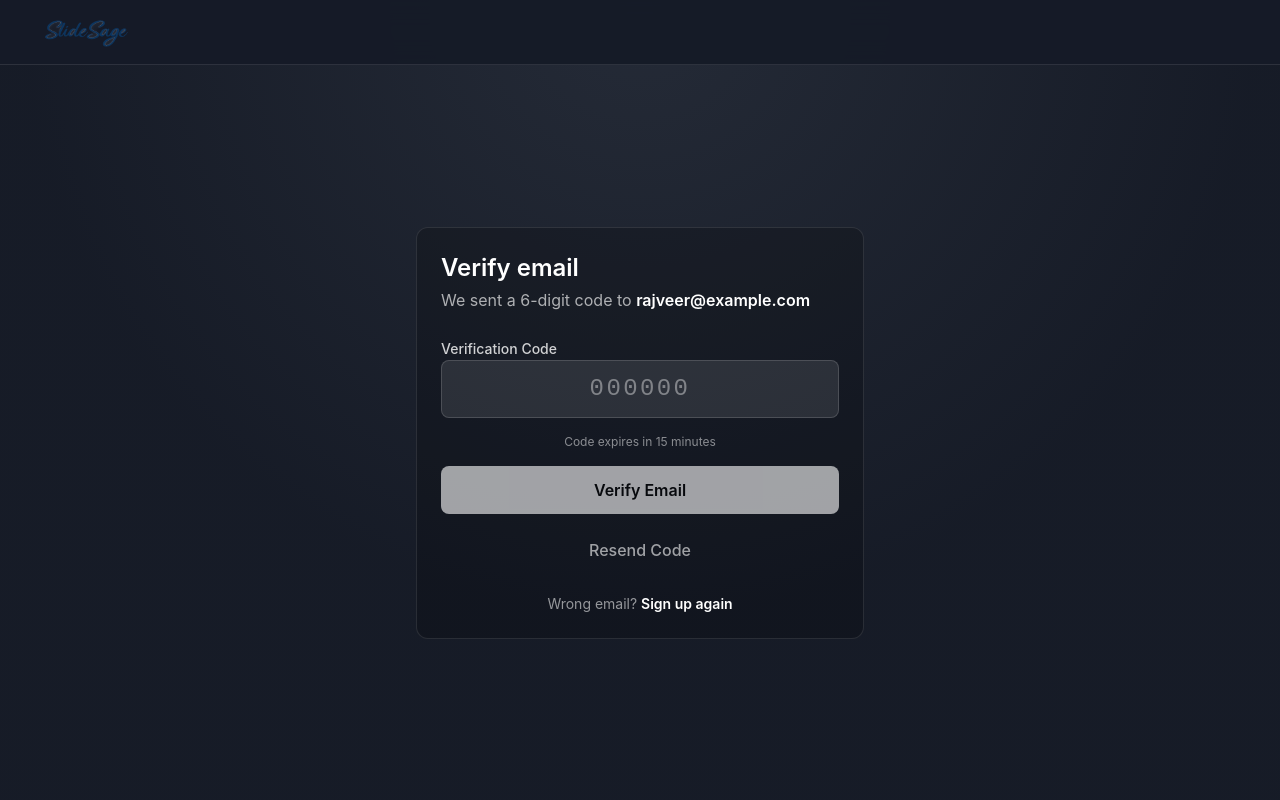
Test case: VerifyEmailPage › starts a resend cooldown instead of showing a browser alert or success message
Click the button "Resend Code" at (640, 550), box top-left (441, 530), bottom-right (839, 570)
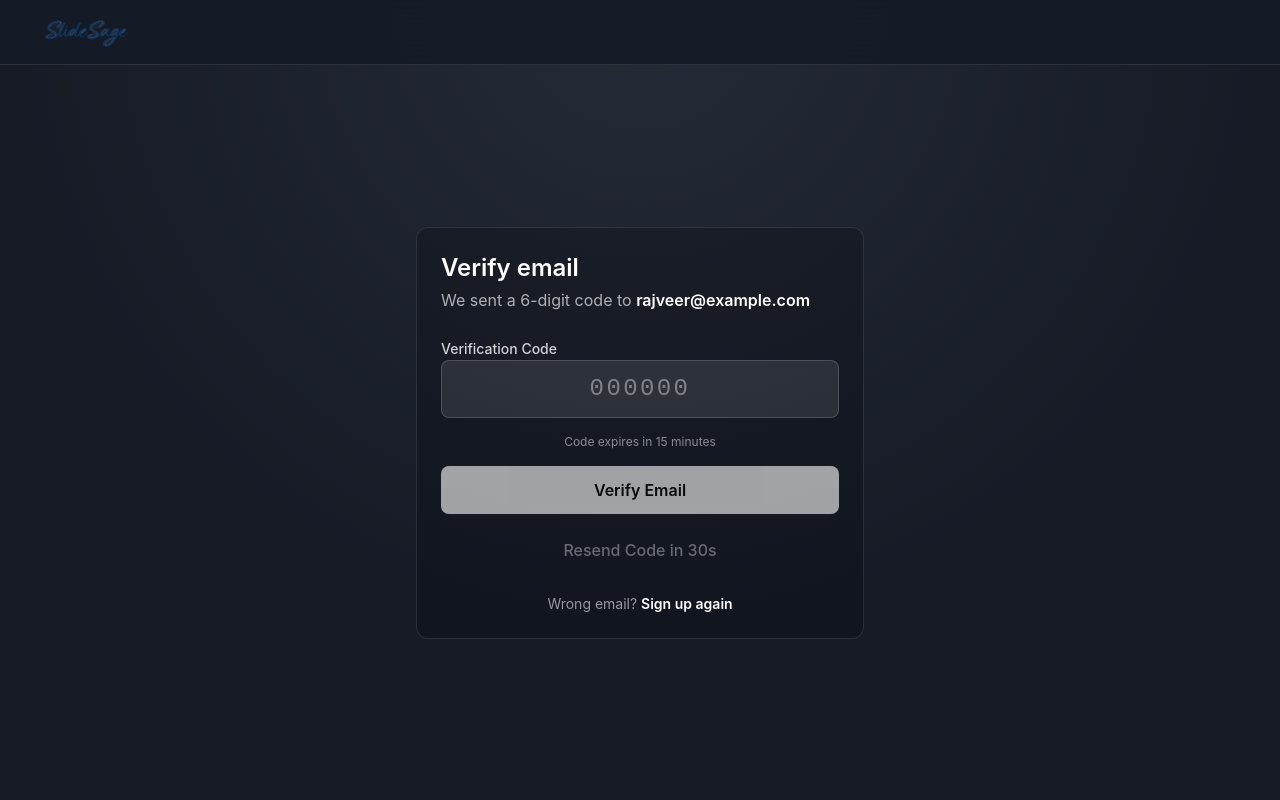
Check: the button "Resend Code in 30s" is disabled, box top-left (441, 530), bottom-right (839, 570)
